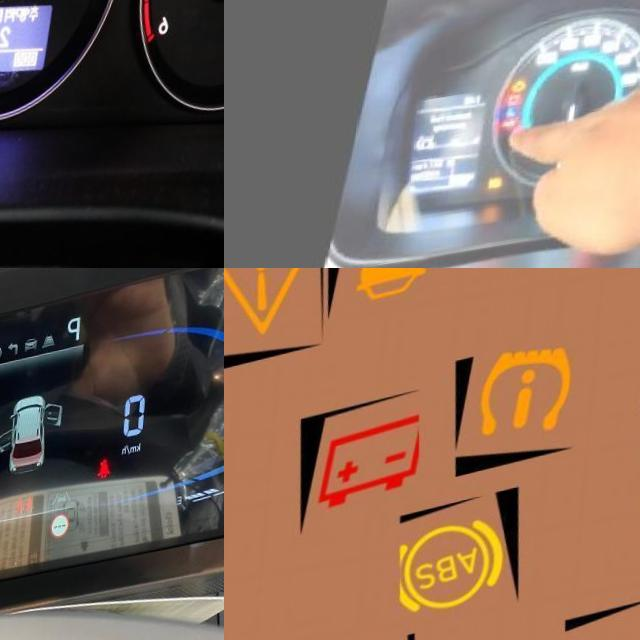Engine cooling system: (507, 110, 519, 125)
